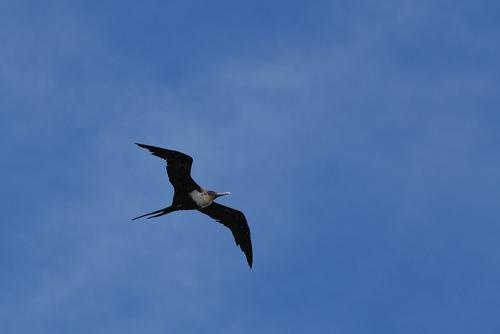bird: (131, 138, 255, 270)
